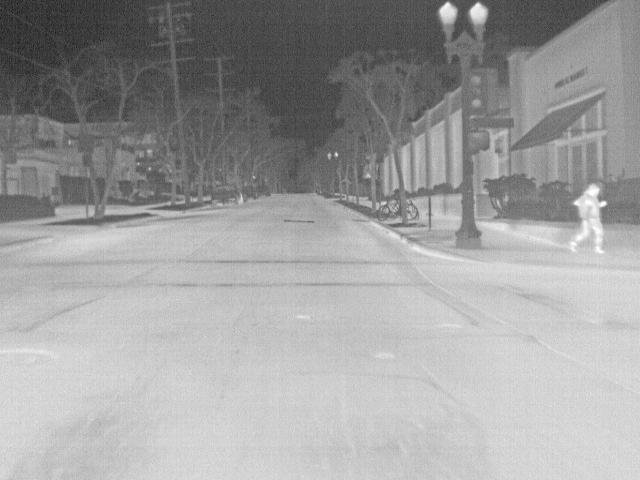car: (210, 185, 241, 207), (241, 184, 258, 202), (257, 184, 272, 198)
person: (565, 180, 605, 258)
